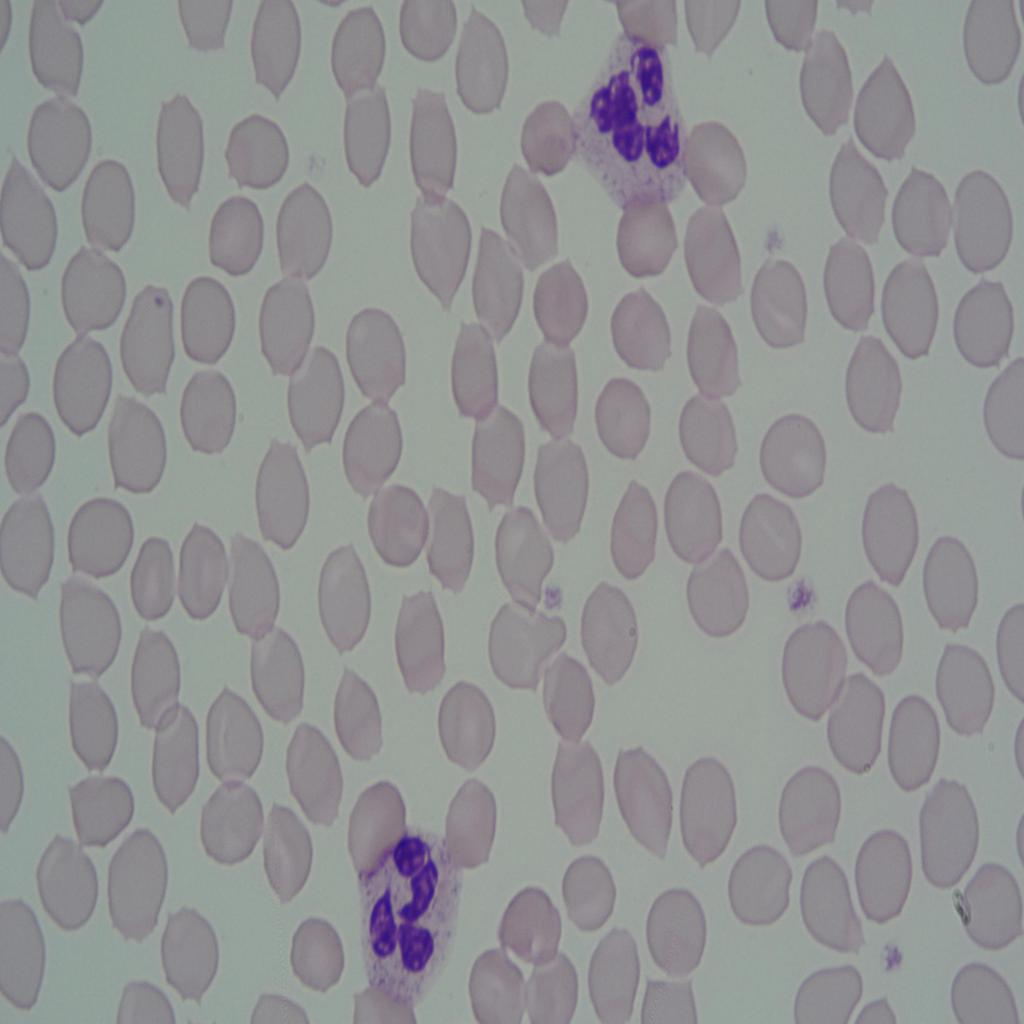Neutrofil: (562, 31, 694, 215), (356, 810, 462, 1006)
Platelet: (545, 569, 573, 622), (874, 936, 906, 978), (788, 589, 822, 627), (758, 222, 789, 260)
